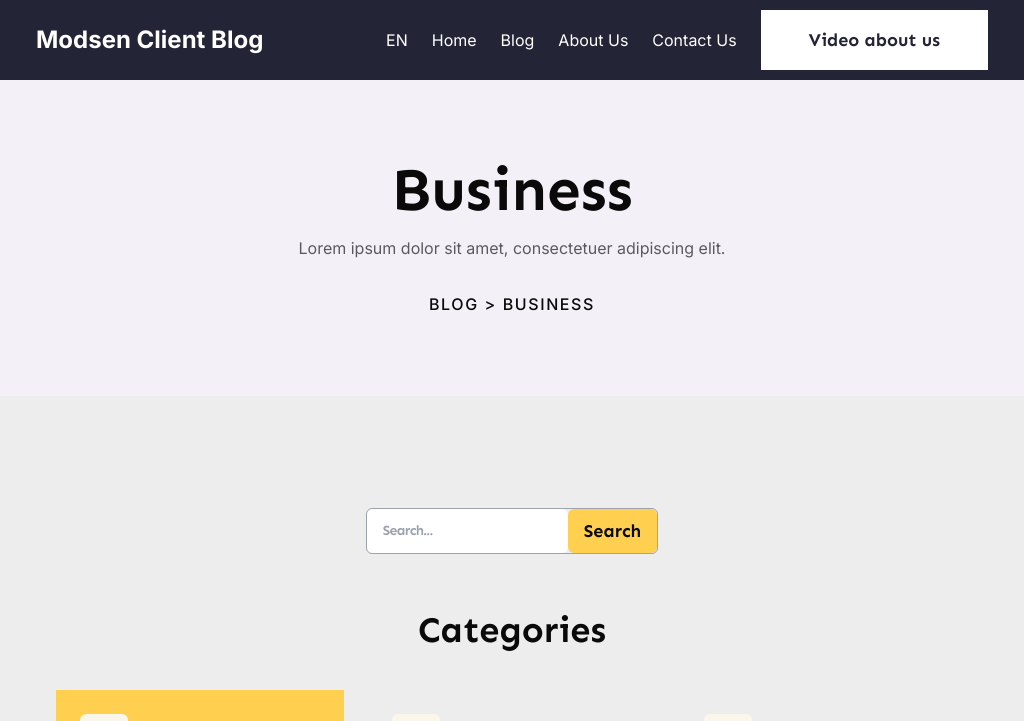
Scenario: certain category page › should display error message , when input tag is uncorrect
Type "liqwd" into the field with placeholder "Search..." at (468, 531), box [367,509,568,553]
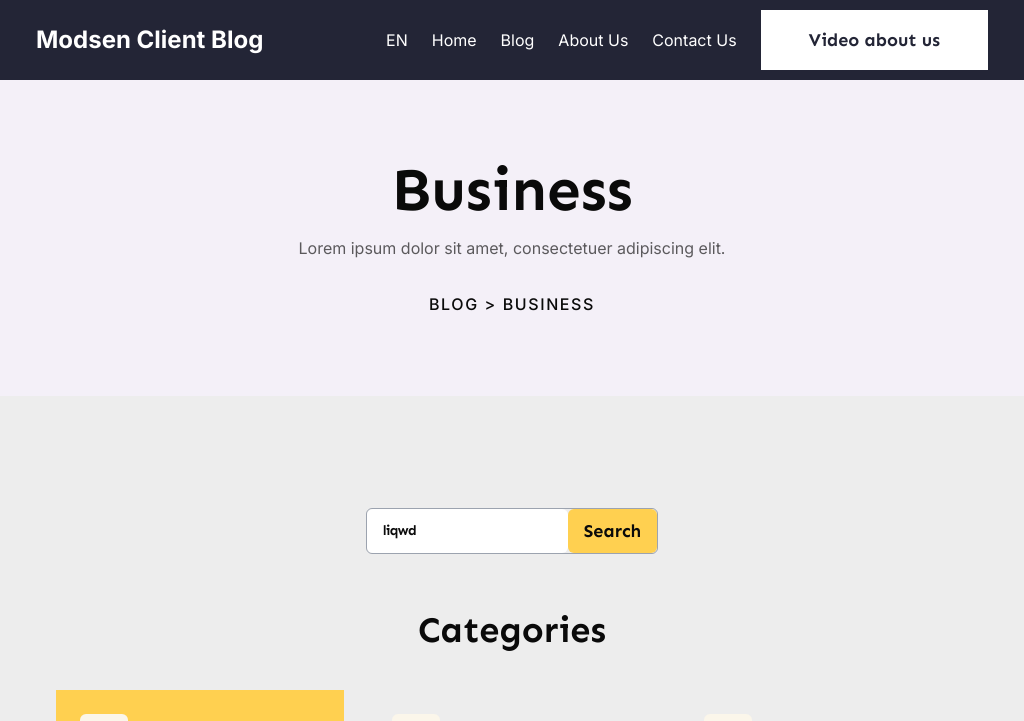
Click the button "Search" at (613, 531), box [568,509,658,553]
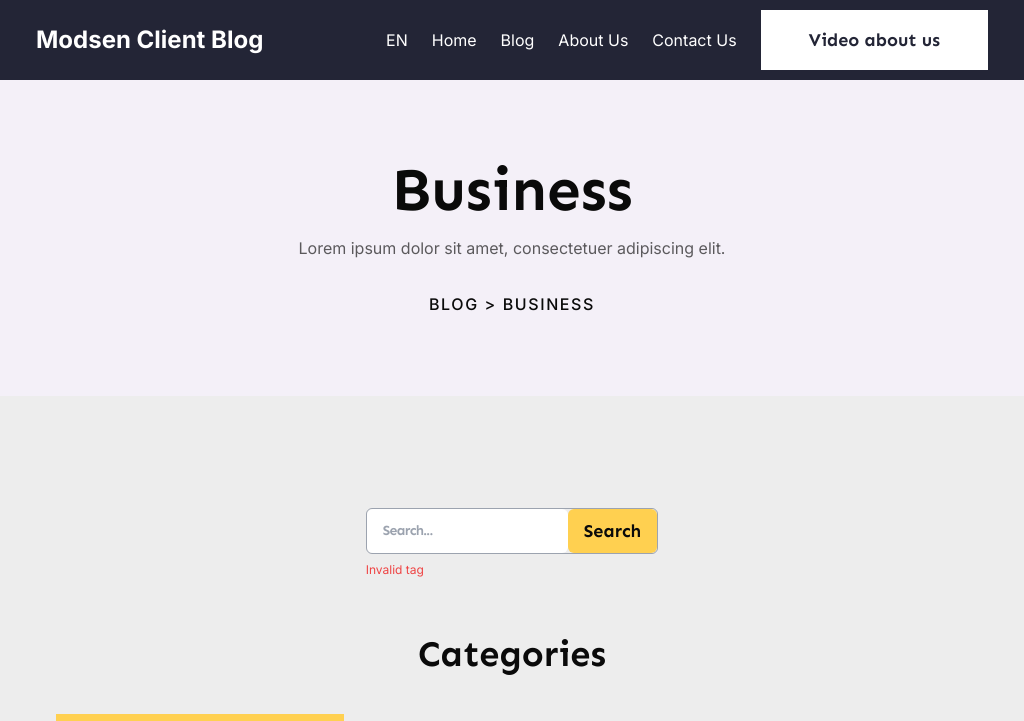
Expected: the text "Invalid tag" is shown, [366,562,424,577]
